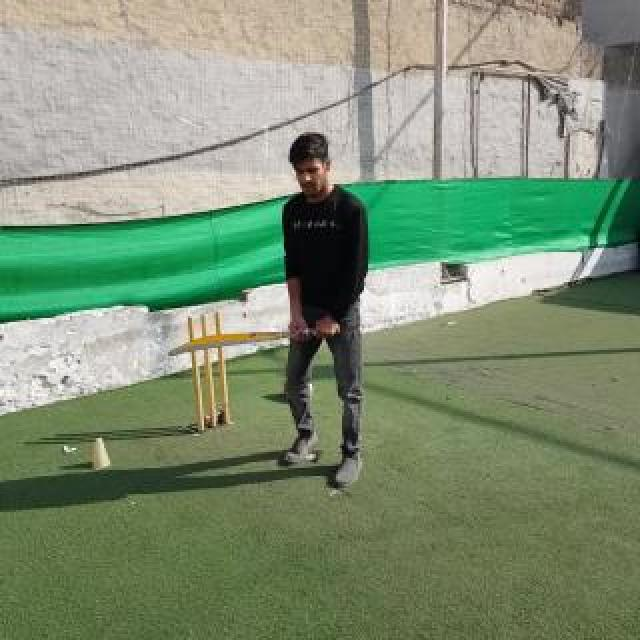bat: (168, 326, 340, 356)
